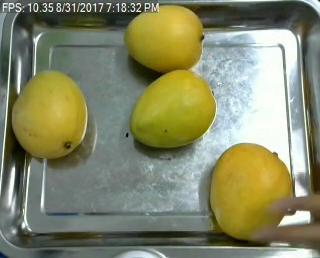Mango: (211, 143, 292, 241), (9, 69, 88, 162), (128, 70, 216, 147), (125, 4, 202, 72)
